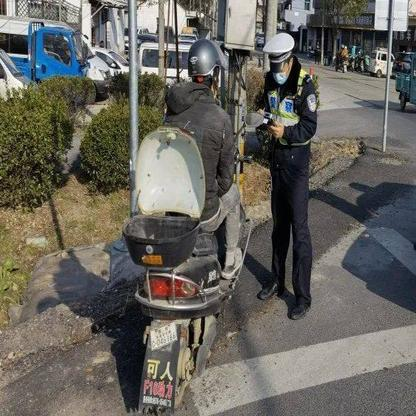target: (118, 38, 252, 411)
